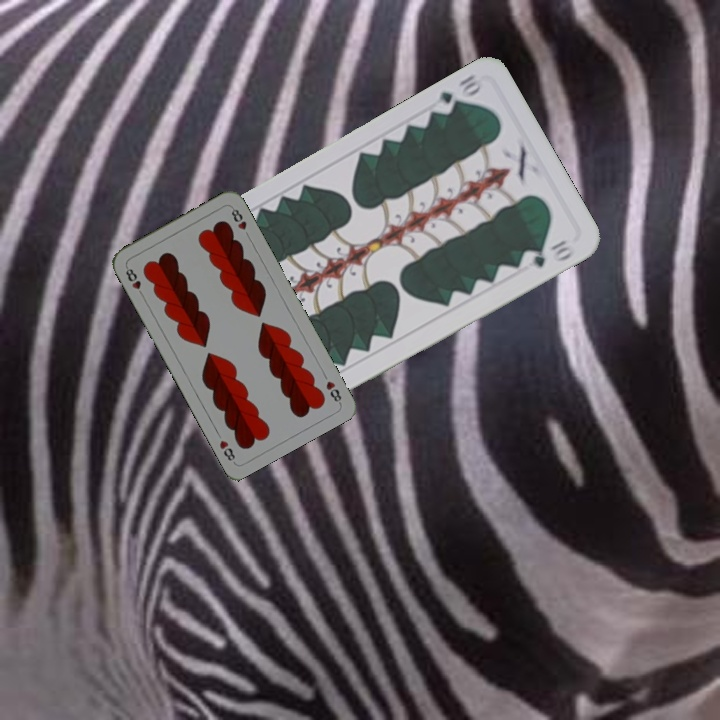G10: (429, 70, 487, 117)
H8: (121, 262, 147, 300), (322, 377, 344, 406)
